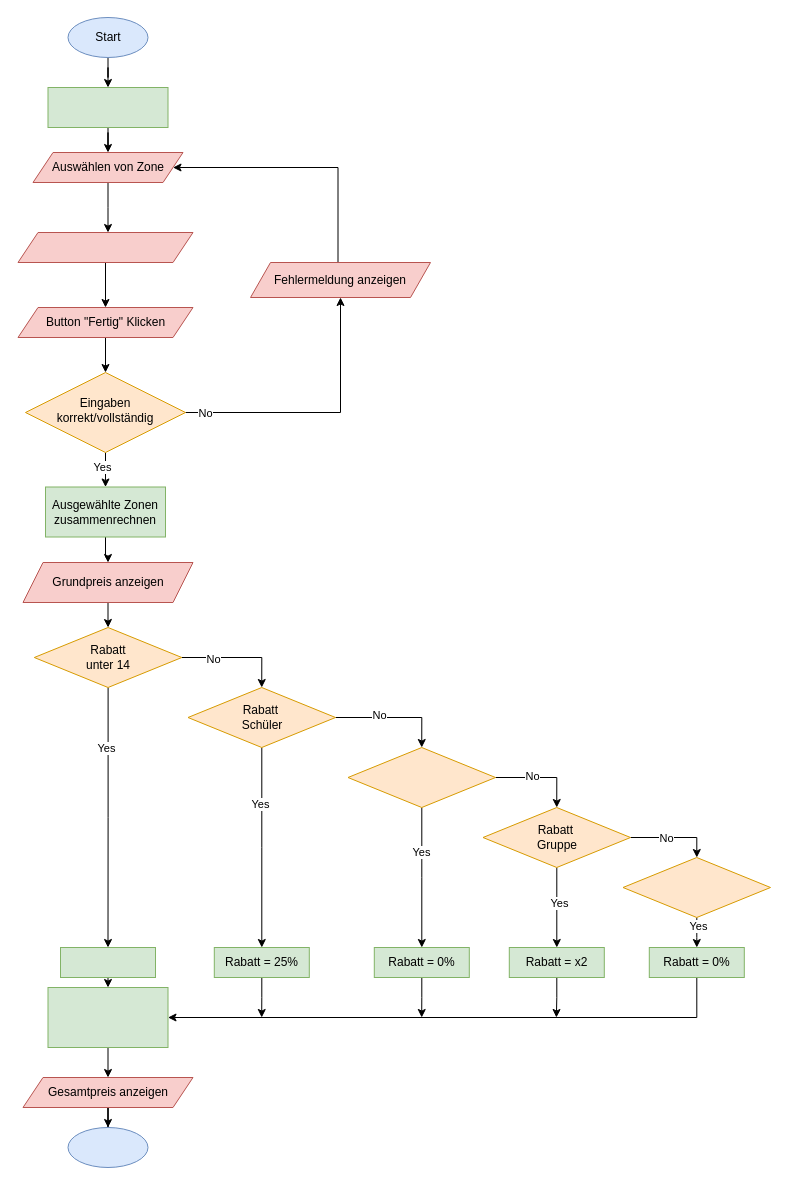
Some shapes in this 788 by 1185 pixel diagram are drawn without their labels. The shapes that lost their labels are listed below. From the top down, each one's box as (x1, y1, x2, y2) in pixels, then its label:
(47, 86, 168, 128): Variablen deklarieren und initialisieren
(17, 232, 193, 262): Auswählen von Rabatt
(347, 746, 496, 808): Rabatt Erwachsen
(622, 856, 770, 918): Kein Rabatt
(60, 946, 156, 978): Rabatt = 50%
(47, 986, 168, 1048): Berechnen von Gesamtpreis: Rabatt * Grundpreis
(67, 1126, 148, 1168): Ende
